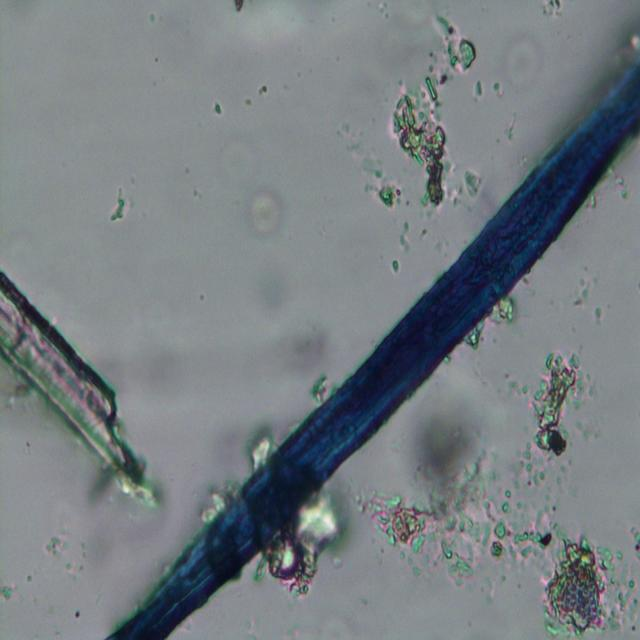Background material: (369, 489, 511, 586), (414, 388, 512, 518), (541, 521, 632, 637), (385, 76, 461, 203), (255, 500, 349, 594), (336, 103, 406, 211), (536, 343, 588, 462), (522, 446, 564, 558), (496, 16, 550, 87), (214, 421, 282, 471), (288, 321, 330, 400), (431, 18, 477, 72), (44, 532, 84, 576), (246, 195, 290, 232), (104, 182, 138, 221), (489, 287, 521, 324), (570, 269, 596, 308), (458, 170, 488, 200), (540, 0, 566, 25), (501, 109, 519, 139), (472, 77, 488, 104), (384, 254, 402, 275), (240, 89, 256, 110), (595, 304, 609, 328), (232, 0, 248, 17), (257, 82, 271, 97), (214, 100, 224, 114)
Cellulose filter fibre: (0, 272, 152, 508)
Cotton: (105, 59, 640, 637)
